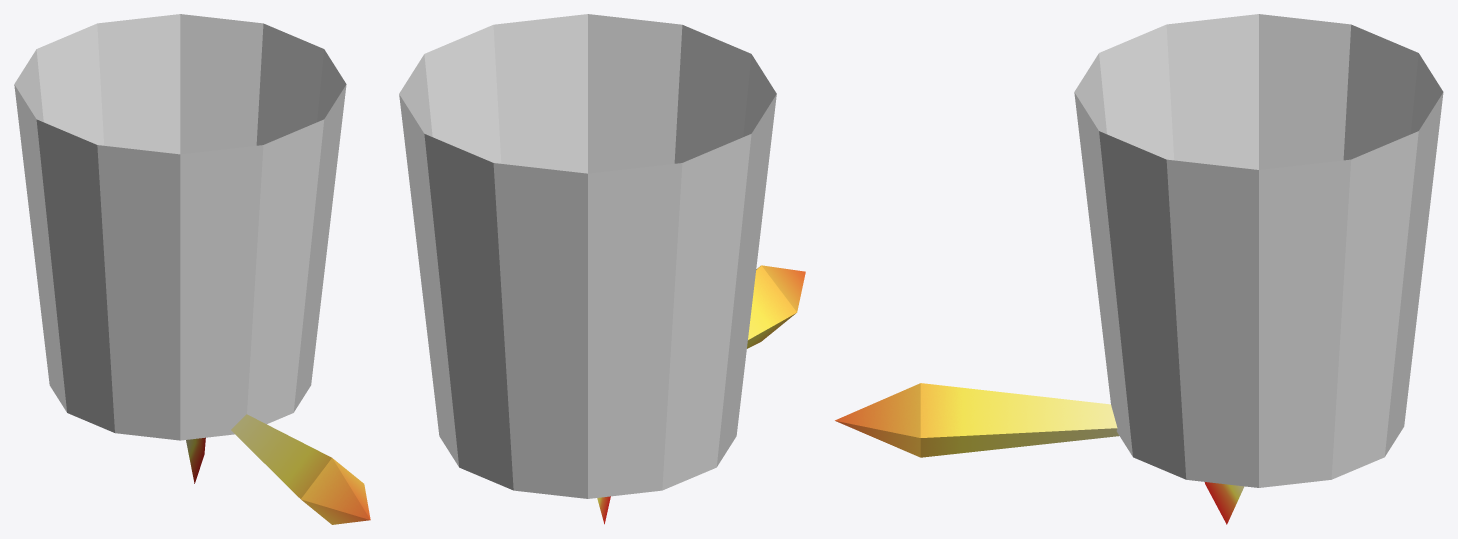
File: spark.fbx
3 views of the same model, side by side, from view 1: azimuth 30°, elevation 25°; view 2: azimuth 150°, elevation 25°; view 3: azimuth 270°, elevation 25° (orthographic). The views are drawn at different scales.
Visible parts, largest first — view 1: Cylinder, spear shaped spark, flat spark; view 2: Cylinder, spear shaped spark; view 3: Cylinder, spear shaped spark, flat spark.
Part boxes in pixels (box(x1,y1,x2,y2)): Cylinder: box(14, 14, 346, 440); spear shaped spark: box(231, 414, 370, 524); flat spark: box(186, 437, 205, 483); Cylinder: box(399, 14, 776, 498); spear shaped spark: box(747, 265, 805, 348); Cylinder: box(1074, 14, 1443, 487); spear shaped spark: box(835, 383, 1119, 457); flat spark: box(1204, 482, 1244, 524).
Bounding box in the file's own units: 167 × 216 × 275.
